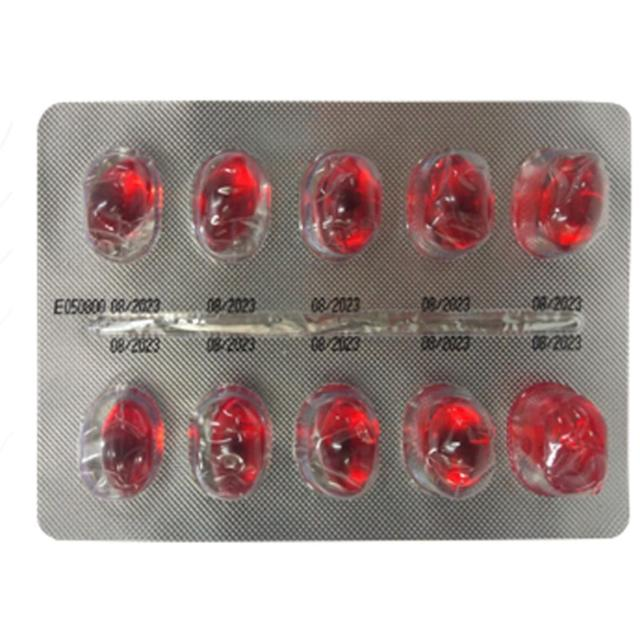blister: (33, 88, 636, 548)
